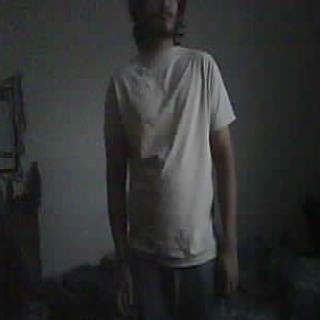Gray Sweatpants: (138, 261, 221, 320)
Yellow T-Shirt: (104, 47, 232, 264)
